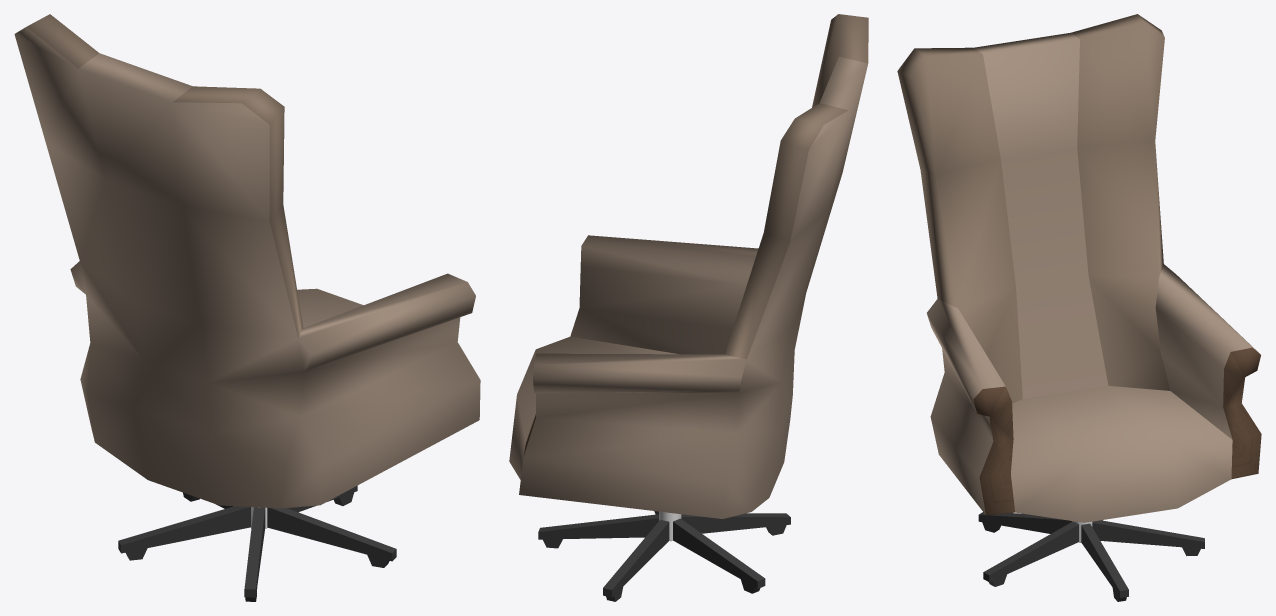
The model's file is interior_F_004.fbx.
The picture shows the model from 3 angles, left to right: view 1: azimuth 30°, elevation 25°; view 2: azimuth 150°, elevation 25°; view 3: azimuth 270°, elevation 25°; orthographic projection. The views are drawn at different scales.
Visible parts, largest first — view 1: interior_F_004; view 2: interior_F_004; view 3: interior_F_004.
Boxes of the visible parts, x1,y1,x2,y2 form: interior_F_004: [14, 14, 480, 601]; interior_F_004: [509, 14, 868, 601]; interior_F_004: [897, 14, 1261, 601].
Size of the model in its own units: 92.86 by 133 by 95.33.
